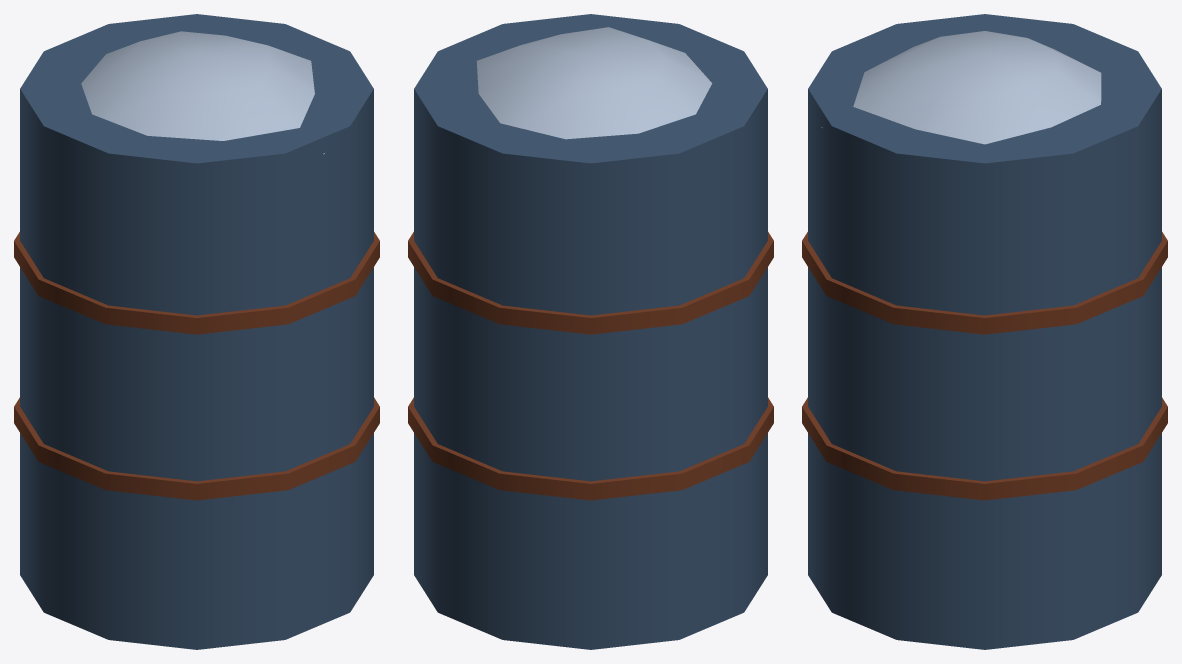
Rendered from barrel.glb.
3 renders of one model, left to right at view 1: azimuth 30°, elevation 25°; view 2: azimuth 150°, elevation 25°; view 3: azimuth 270°, elevation 25°, orthographic.
Parts seen in each view (by area): view 1: Prop; view 2: Prop; view 3: Prop.
Boxes of the visible parts, x1,y1,x2,y2 form: Prop: [14, 14, 379, 649]; Prop: [408, 14, 773, 649]; Prop: [802, 14, 1167, 649].
Bounding box in the file's own units: 0.6 × 0.94 × 0.6.
